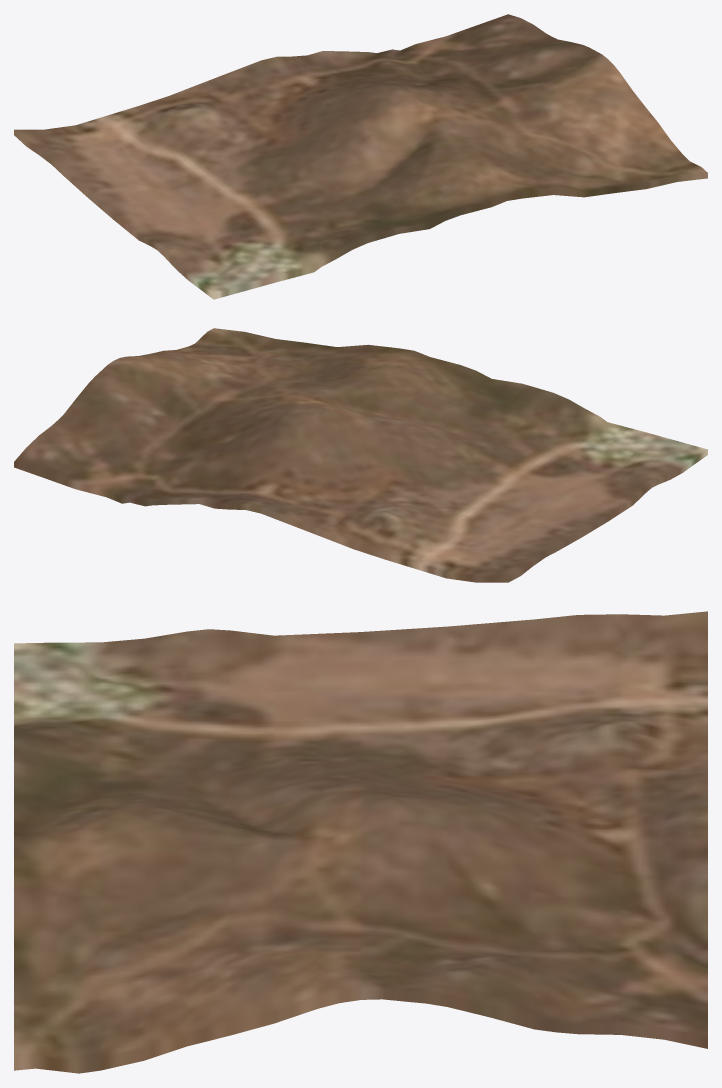
Rendered from terrain_r0_c5_lod2.glb.
3 views of the same model, one above another, from view 1: azimuth 30°, elevation 25°; view 2: azimuth 150°, elevation 25°; view 3: azimuth 270°, elevation 25° (orthographic). The views are drawn at different scales.
Visible parts, largest first — view 1: terrain_r0_c5_lod2; view 2: terrain_r0_c5_lod2; view 3: terrain_r0_c5_lod2.
Part boxes in pixels (<box>): terrain_r0_c5_lod2: <box>14,14,707,299</box>; terrain_r0_c5_lod2: <box>14,328,707,582</box>; terrain_r0_c5_lod2: <box>14,611,707,1073</box>.
Size of the model in its own units: 1125 by 120 by 787.
1 material, 1 textured.
